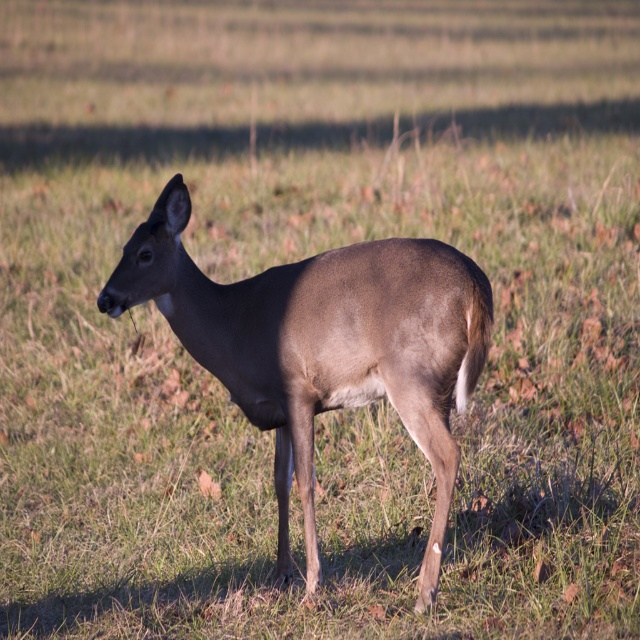Deer: (97, 171, 493, 613)
